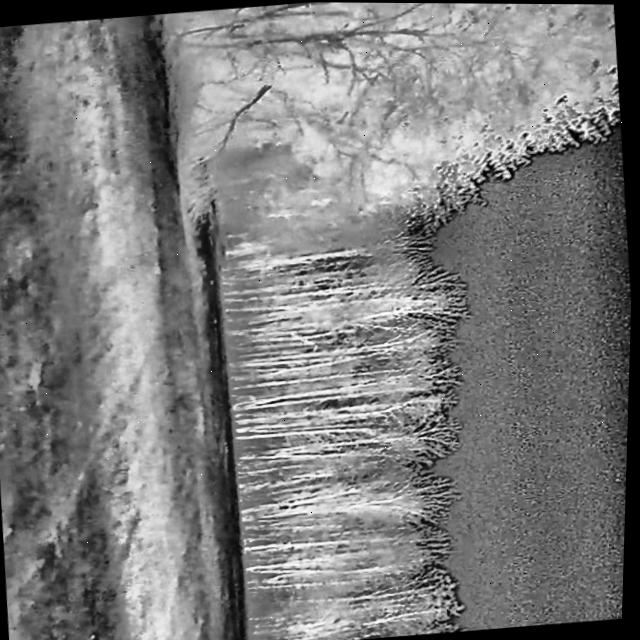drone: (419, 486, 428, 492)
